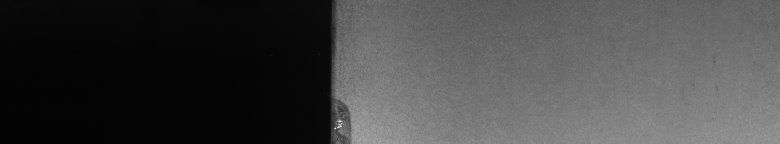hb: (340, 92, 359, 136)
